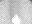person: (13, 15, 21, 23)
